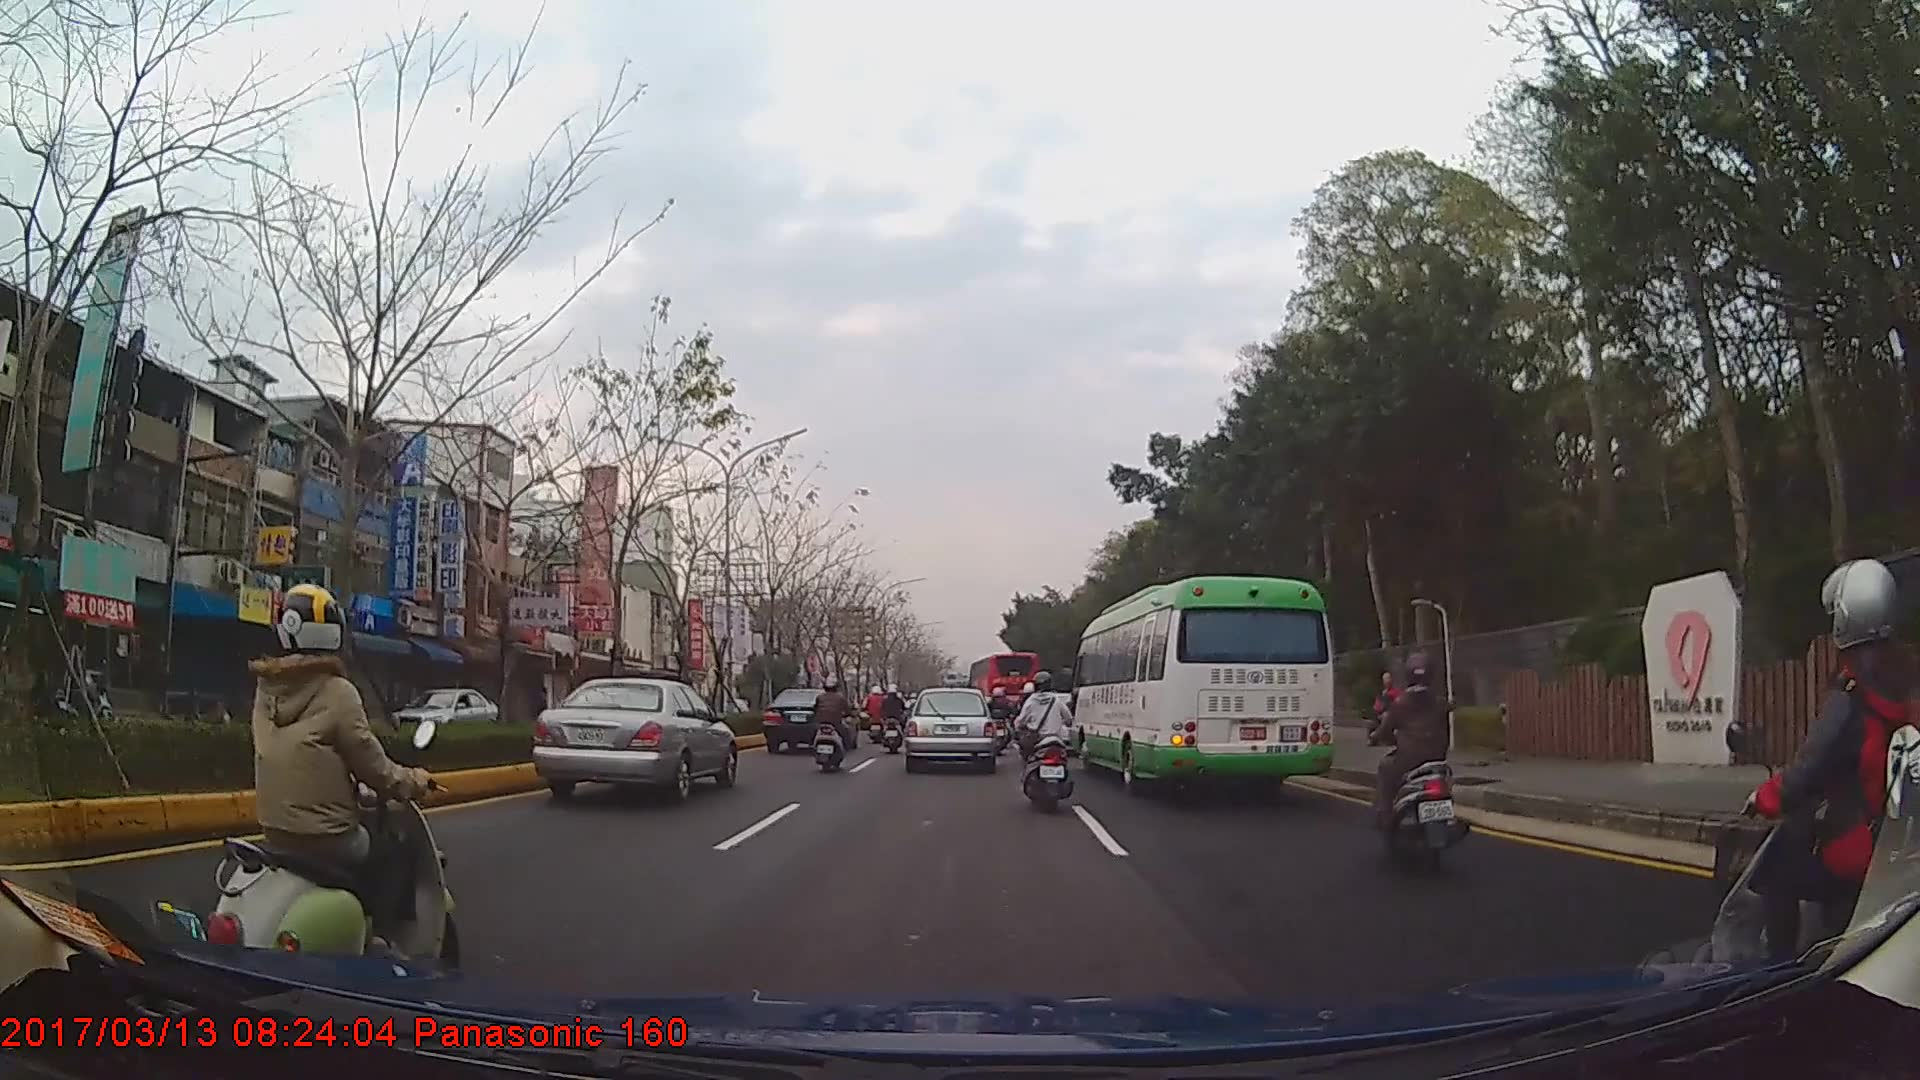pedestrian: (1364, 673, 1406, 750)
rider: (199, 580, 454, 1025), (1711, 558, 1920, 1050), (1367, 652, 1473, 868), (1010, 673, 1071, 814), (811, 676, 852, 773), (984, 687, 1010, 755), (863, 685, 891, 746), (879, 684, 905, 753)
vehicle: (1066, 575, 1335, 795), (532, 675, 736, 805), (903, 686, 998, 772), (383, 679, 501, 739), (763, 685, 860, 754), (968, 649, 1038, 720)
